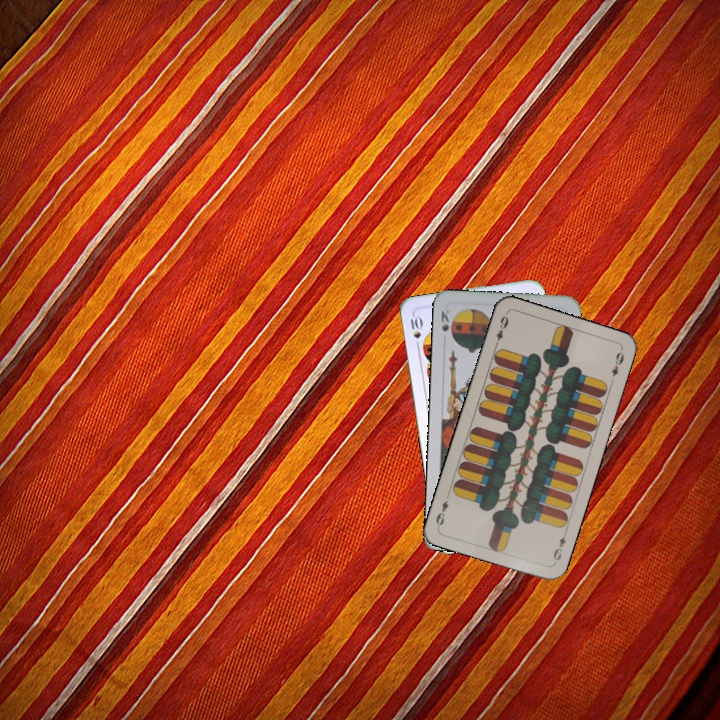E9: (491, 310, 511, 350), (549, 527, 569, 566)
S10: (406, 311, 424, 352)
SK: (437, 305, 452, 334)
